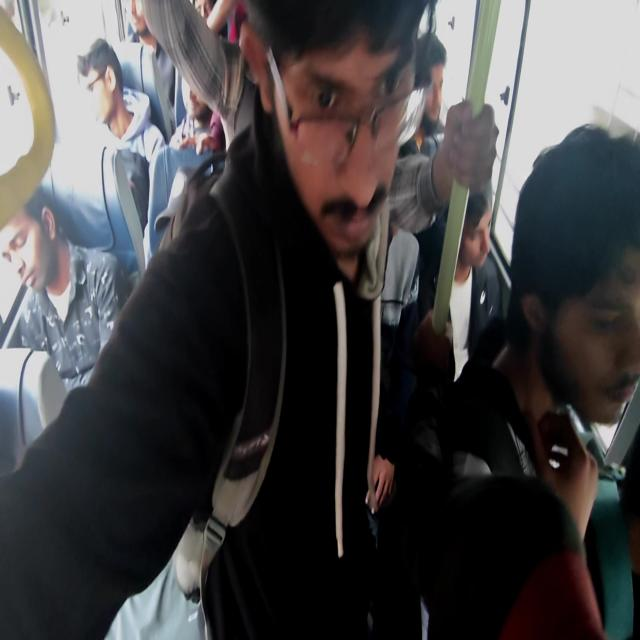person: (1, 1, 493, 638), (413, 122, 639, 638), (1, 184, 127, 396), (130, 0, 256, 151), (414, 182, 503, 384), (77, 37, 166, 167)
